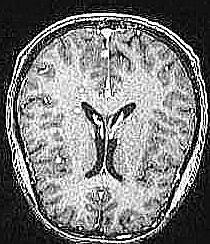Normal_Brain: (1, 1, 210, 244)
